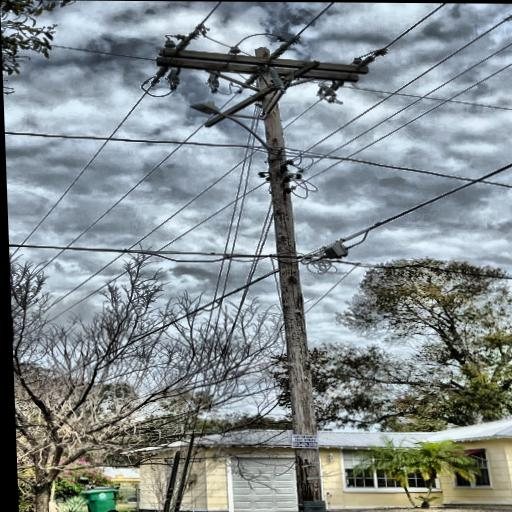insulator: (350, 56, 367, 65), (162, 40, 177, 49), (228, 45, 241, 55)
pole: (238, 41, 350, 512)
street light: (187, 100, 286, 162)
